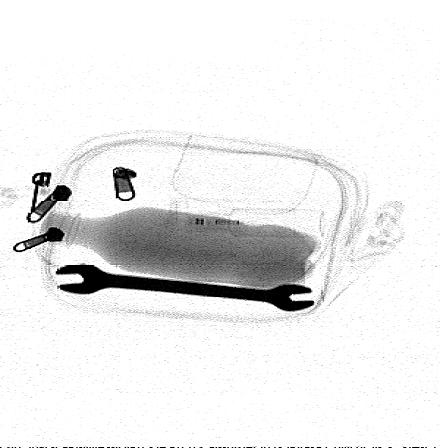Wrench: (54, 264, 320, 312)
